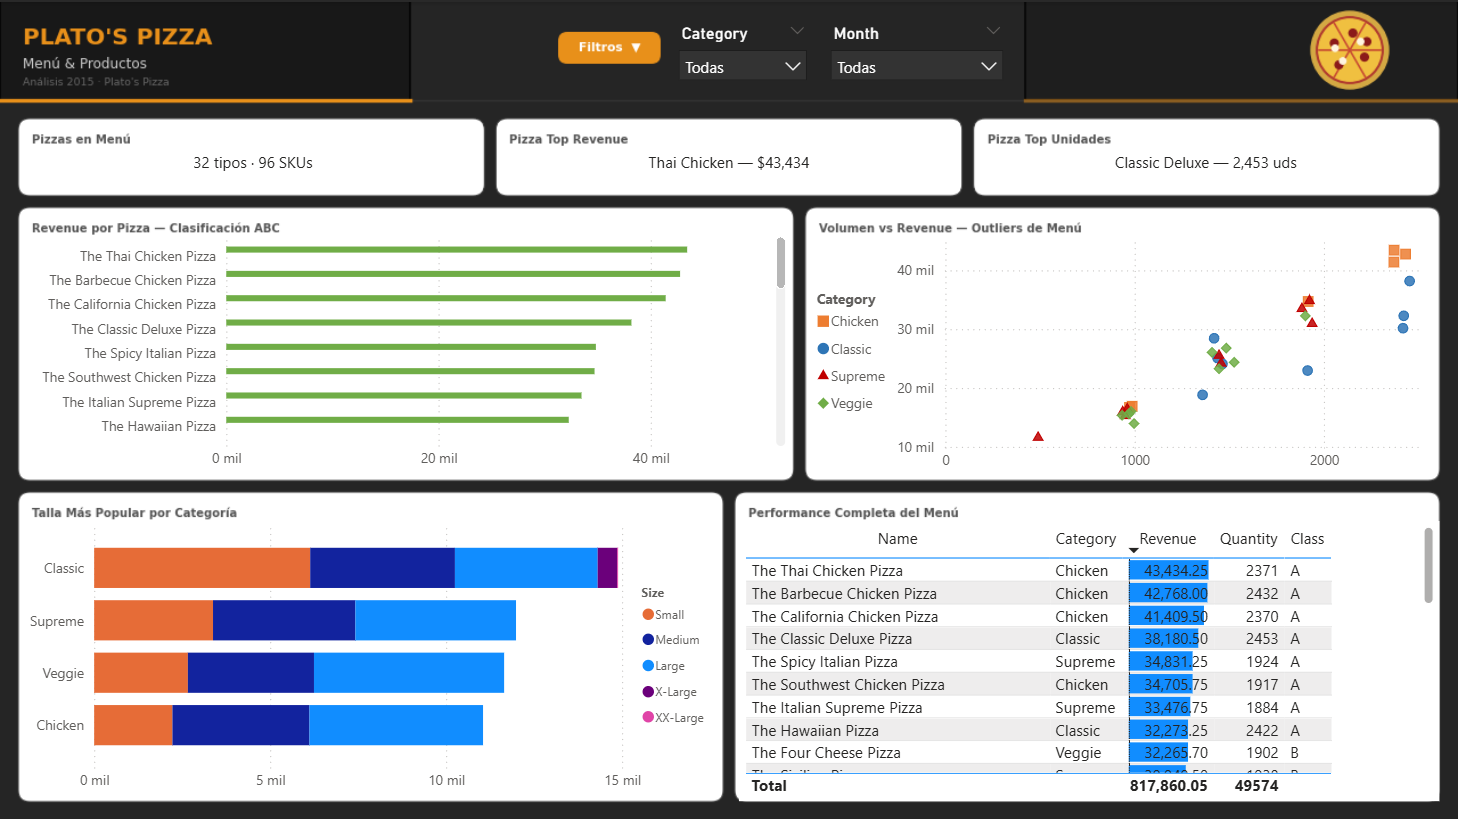

This screenshot's page, from the dashboard's own definition file:
{"tool":"powerbi","page":{"name":"Menu y Prod","canvas":[1280,720],"ordinal":2},"visuals":[{"type":"textbox","box":[21.1,126.4,402.1,33.4],"z":0},{"type":"textbox","box":[439,126.4,402.1,33.4],"z":1000},{"type":"textbox","box":[857.9,126.4,402.1,33.4],"z":2000},{"type":"clusteredBarChart","fields":{"Category":["agg_pizza_performance.name"],"Y":["Sum(agg_pizza_performance.revenue)"],"Series":["agg_pizza_performance.abc_class"]},"box":[16.7,193.2,677.9,225.7],"z":2001},{"type":"scatterChart","fields":{"X":["Sum(agg_pizza_performance.qty)"],"Y":["Sum(agg_pizza_performance.revenue)"],"Category":["agg_pizza_performance.name"],"Series":["agg_pizza_performance.category"]},"box":[712.1,195.8,551.4,224.8],"z":2002},{"type":"barChart","fields":{"Category":["agg_category_size.category"],"Series":["agg_category_size.size_label"],"Y":["Sum(agg_category_size.qty)"]},"box":[16.7,447.8,615.5,253.8],"z":2003},{"type":"tableEx","fields":{"Values":["agg_pizza_performance.name","agg_pizza_performance.category","Sum(agg_pizza_performance.revenue)","Sum(agg_pizza_performance.qty)","agg_pizza_performance.abc_class"]},"box":[648.9,455.7,614.6,245.9],"z":2004},{"type":"slicer","fields":{"Values":["pizza_features.month_name"]},"box":[719.1,14,172.1,61.5],"z":2005},{"type":"slicer","fields":{"Values":["pizza_features.category"]},"box":[585.7,14,133.5,61.5],"z":2006}]}

Visuals, with their boxes in screenshot pixels (x1, y1, x2, y2), scaled from the page's 1280x720 canvas onto the 1458x819 screenshot:
textbox: [x1=24, y1=144, x2=482, y2=182]
textbox: [x1=500, y1=144, x2=958, y2=182]
textbox: [x1=977, y1=144, x2=1435, y2=182]
clusteredBarChart - agg_pizza_performance.name x Sum(agg_pizza_performance.revenue): [x1=19, y1=220, x2=791, y2=476]
scatterChart - Sum(agg_pizza_performance.qty) x Sum(agg_pizza_performance.revenue): [x1=811, y1=223, x2=1439, y2=478]
barChart - agg_category_size.category x agg_category_size.size_label: [x1=19, y1=509, x2=720, y2=798]
tableEx - agg_pizza_performance.name x agg_pizza_performance.category: [x1=739, y1=518, x2=1439, y2=798]
slicer - pizza_features.month_name: [x1=819, y1=16, x2=1015, y2=86]
slicer - pizza_features.category: [x1=667, y1=16, x2=819, y2=86]
